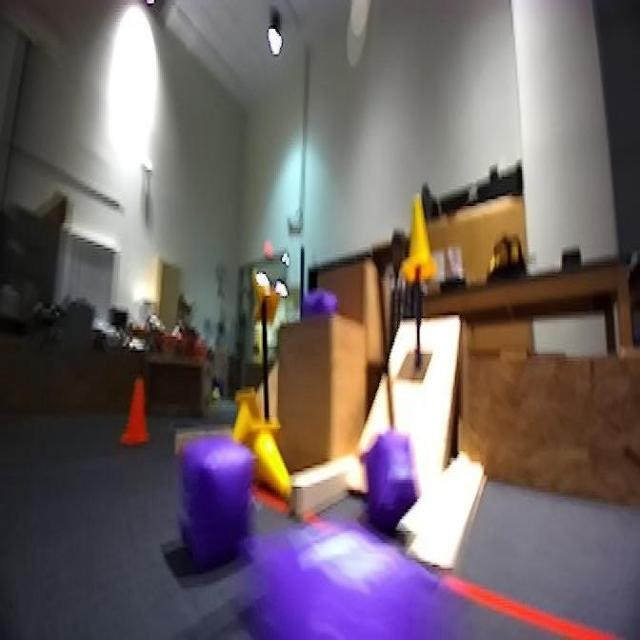frc_cone: (248, 419, 288, 490), (403, 199, 433, 272), (249, 271, 281, 332), (233, 388, 268, 424)
frc_cube: (244, 515, 459, 640), (170, 429, 254, 574), (369, 436, 416, 514), (323, 300, 340, 318)
